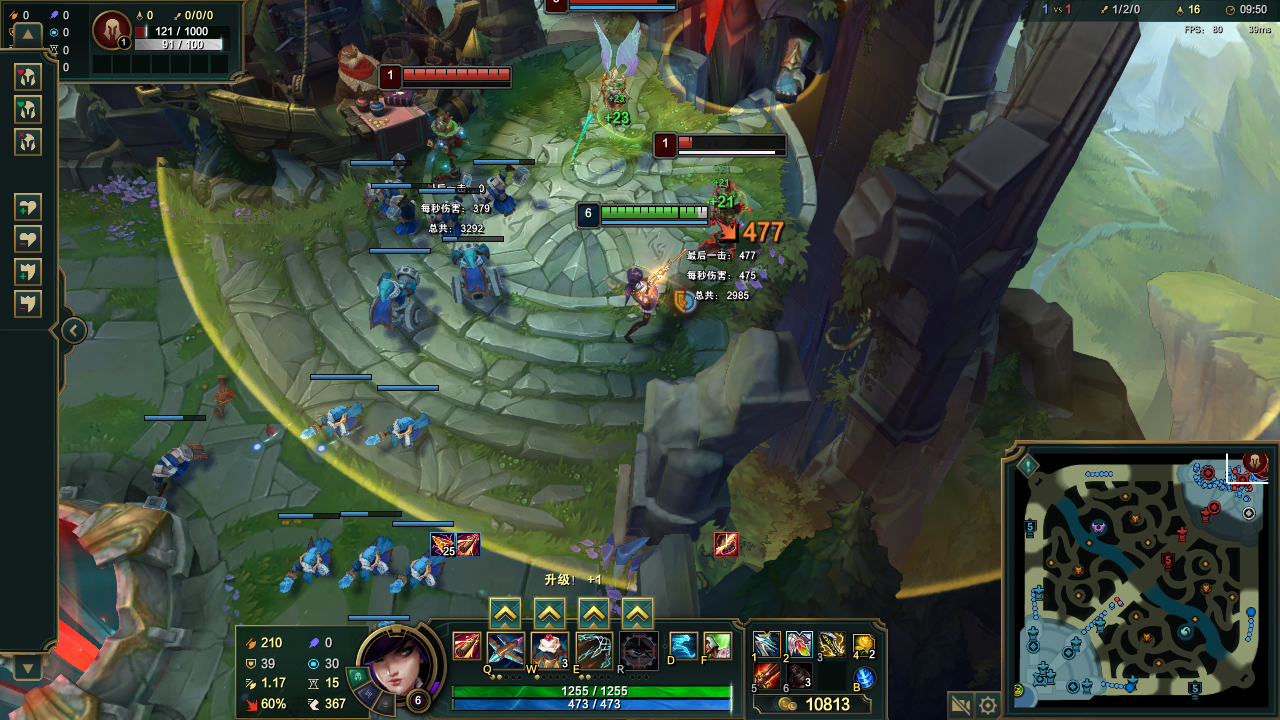DFYX: (678, 136, 784, 149), (406, 71, 510, 80)
